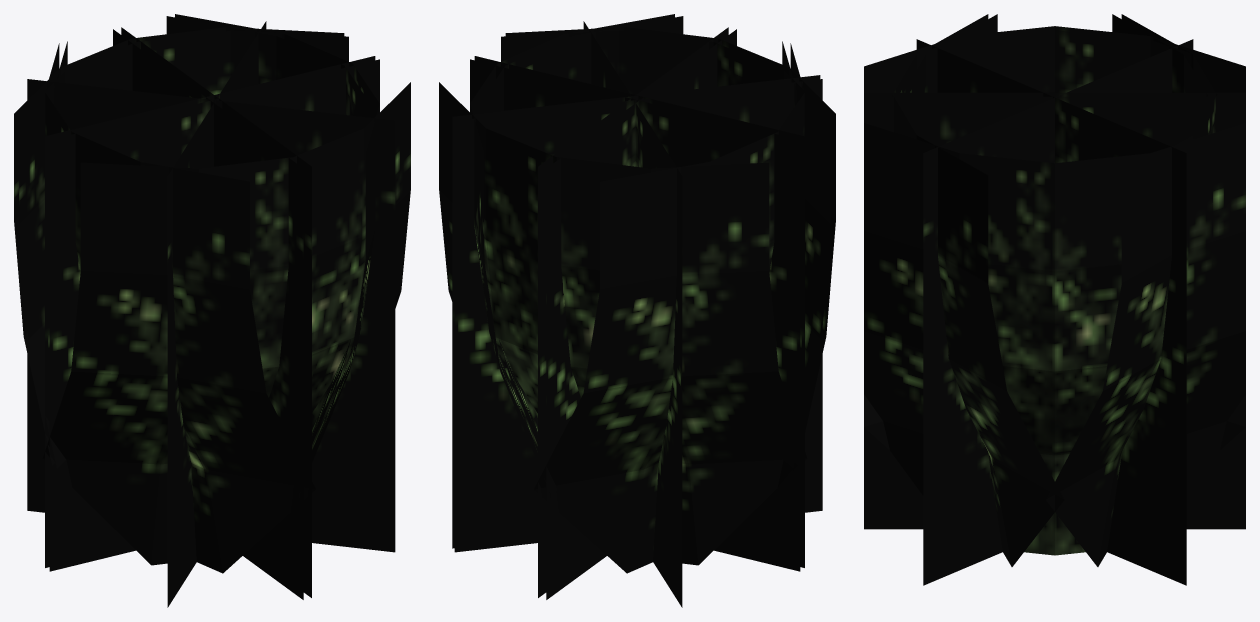
The model's file is bush08.gltf.
3 renders of one model, left to right at view 1: azimuth 30°, elevation 25°; view 2: azimuth 150°, elevation 25°; view 3: azimuth 270°, elevation 25°, orthographic.
Parts seen in each view (by area): view 1: bush8; view 2: bush8; view 3: bush8.
Part boxes in pixels (left/top/right/bottom): bush8: left=14, top=14, right=410, bottom=607; bush8: left=439, top=14, right=835, bottom=607; bush8: left=864, top=14, right=1245, bottom=585.
Size of the model in its own units: 0.8 by 1 by 0.8.
Materials: 1 (1 with a texture image).
